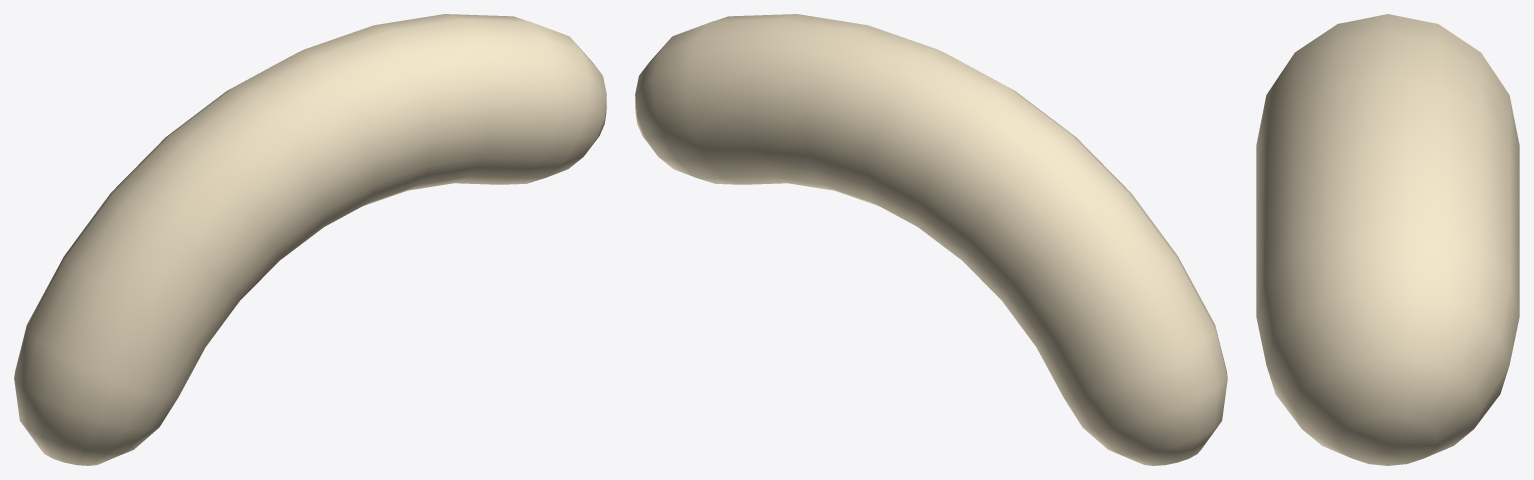
Rendered from egg.fbx.
3 views of the same model, side by side, from view 1: azimuth 30°, elevation 25°; view 2: azimuth 150°, elevation 25°; view 3: azimuth 270°, elevation 25° (orthographic). The views are drawn at different scales.
Parts seen in each view (by area): view 1: Capsule; view 2: Capsule; view 3: Capsule.
Boxes of the visible parts, x1=… form: Capsule: x1=14, y1=14, x2=606, y2=465; Capsule: x1=635, y1=14, x2=1227, y2=465; Capsule: x1=1256, y1=14, x2=1519, y2=465.
Bounding box in the file's own units: 280 × 164 × 71.49.
